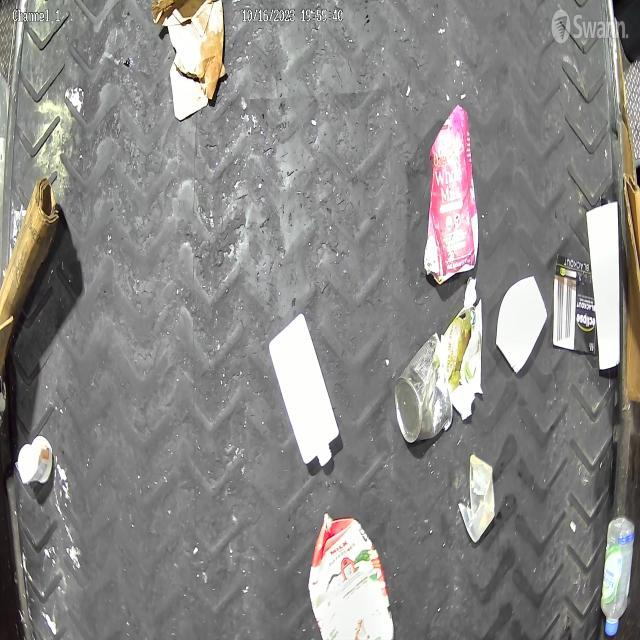can: (385, 320, 461, 467)
plastic_bottle: (598, 510, 638, 640)
